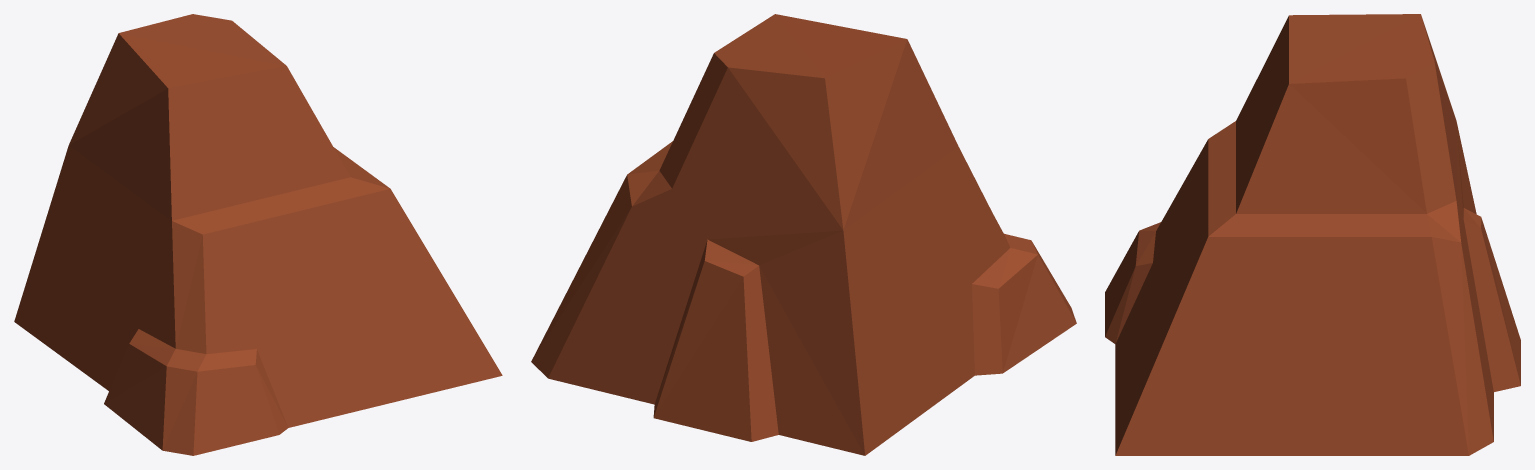
File: ClayC.fbx
The picture shows the model from 3 angles, left to right: view 1: azimuth 30°, elevation 25°; view 2: azimuth 150°, elevation 25°; view 3: azimuth 270°, elevation 25°; orthographic projection. The views are drawn at different scales.
Parts seen in each view (by area): view 1: ClayC; view 2: ClayC; view 3: ClayC.
Part boxes in pixels (<box>): ClayC: <box>14,14,502,455</box>; ClayC: <box>531,14,1076,455</box>; ClayC: <box>1105,14,1520,455</box>.
Bounding box in the file's own units: 46.7 × 39.86 × 47.49.
